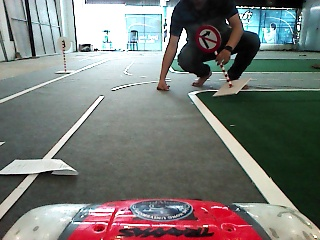ban: (192, 21, 223, 54)
